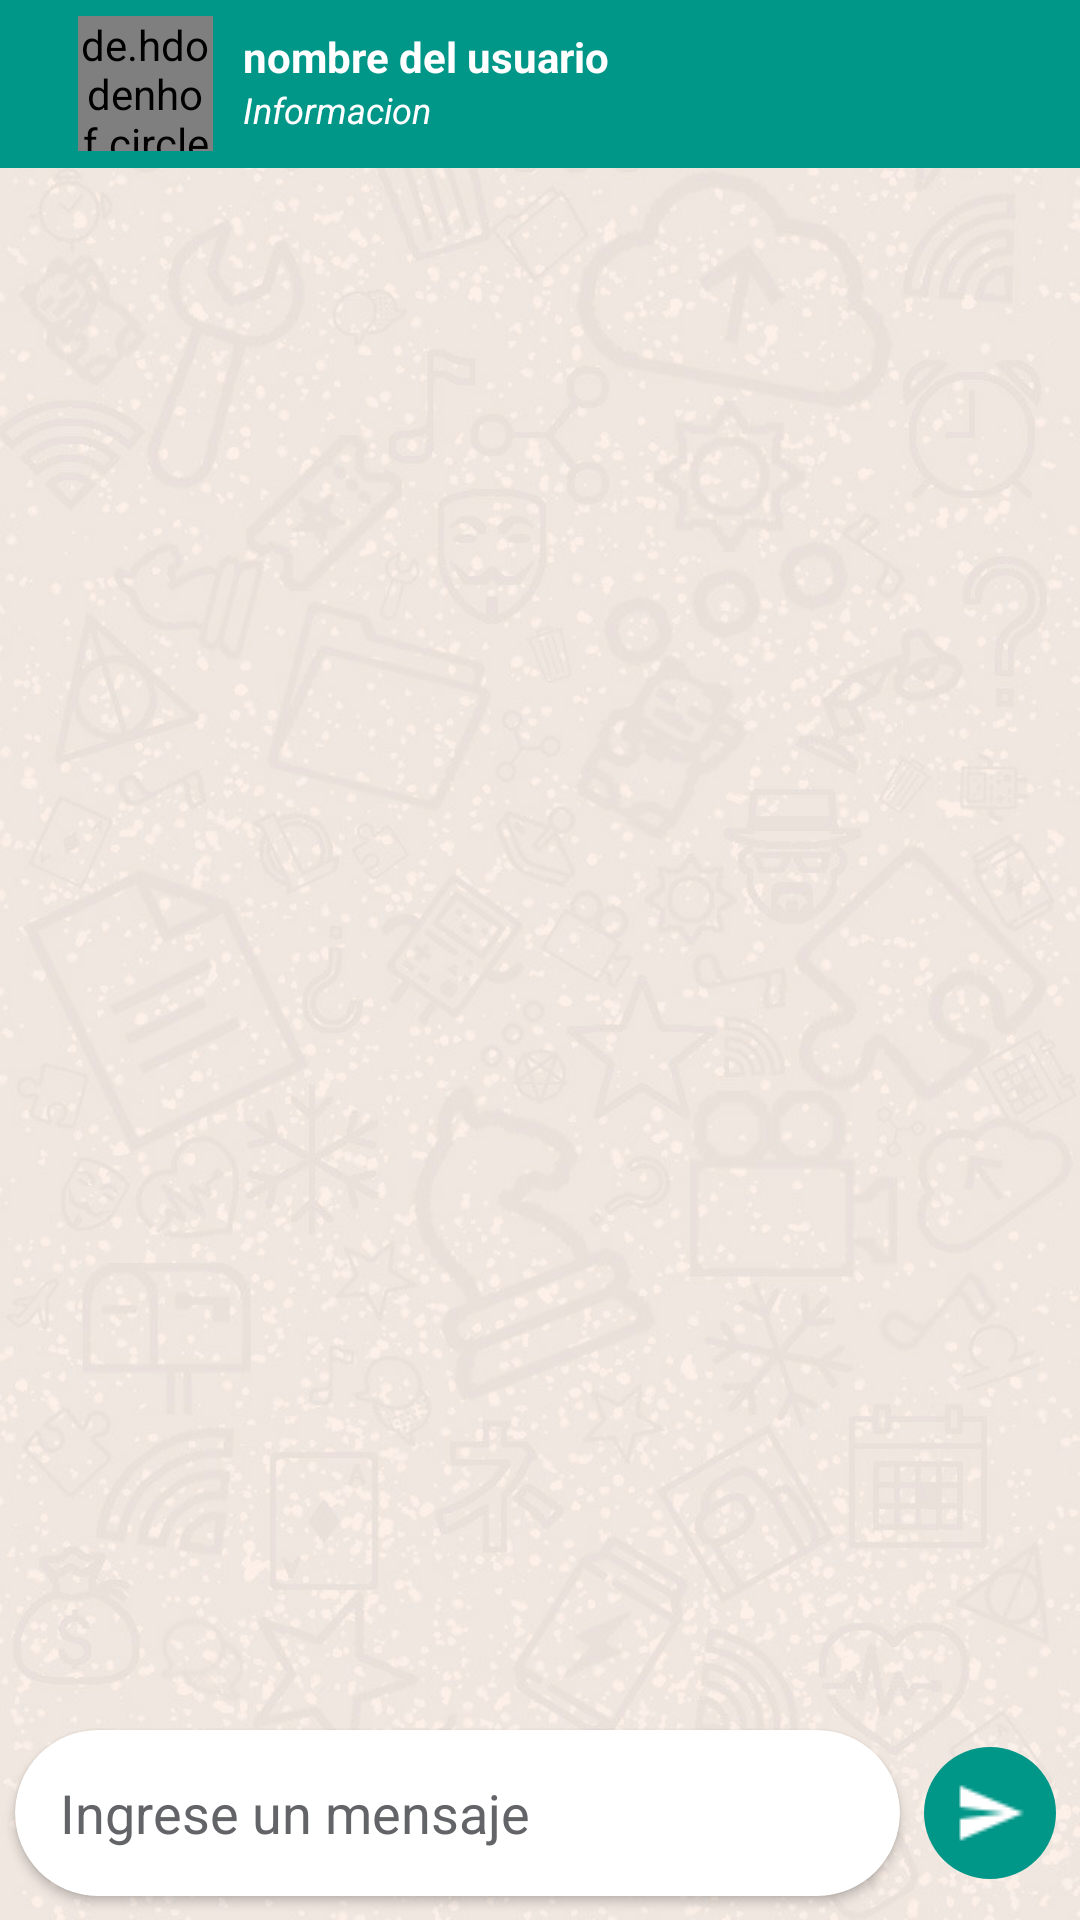

Screen size 1080x1920. Icon name, then its center in pixels as point (x, y):
enviar: point (990, 1813)
